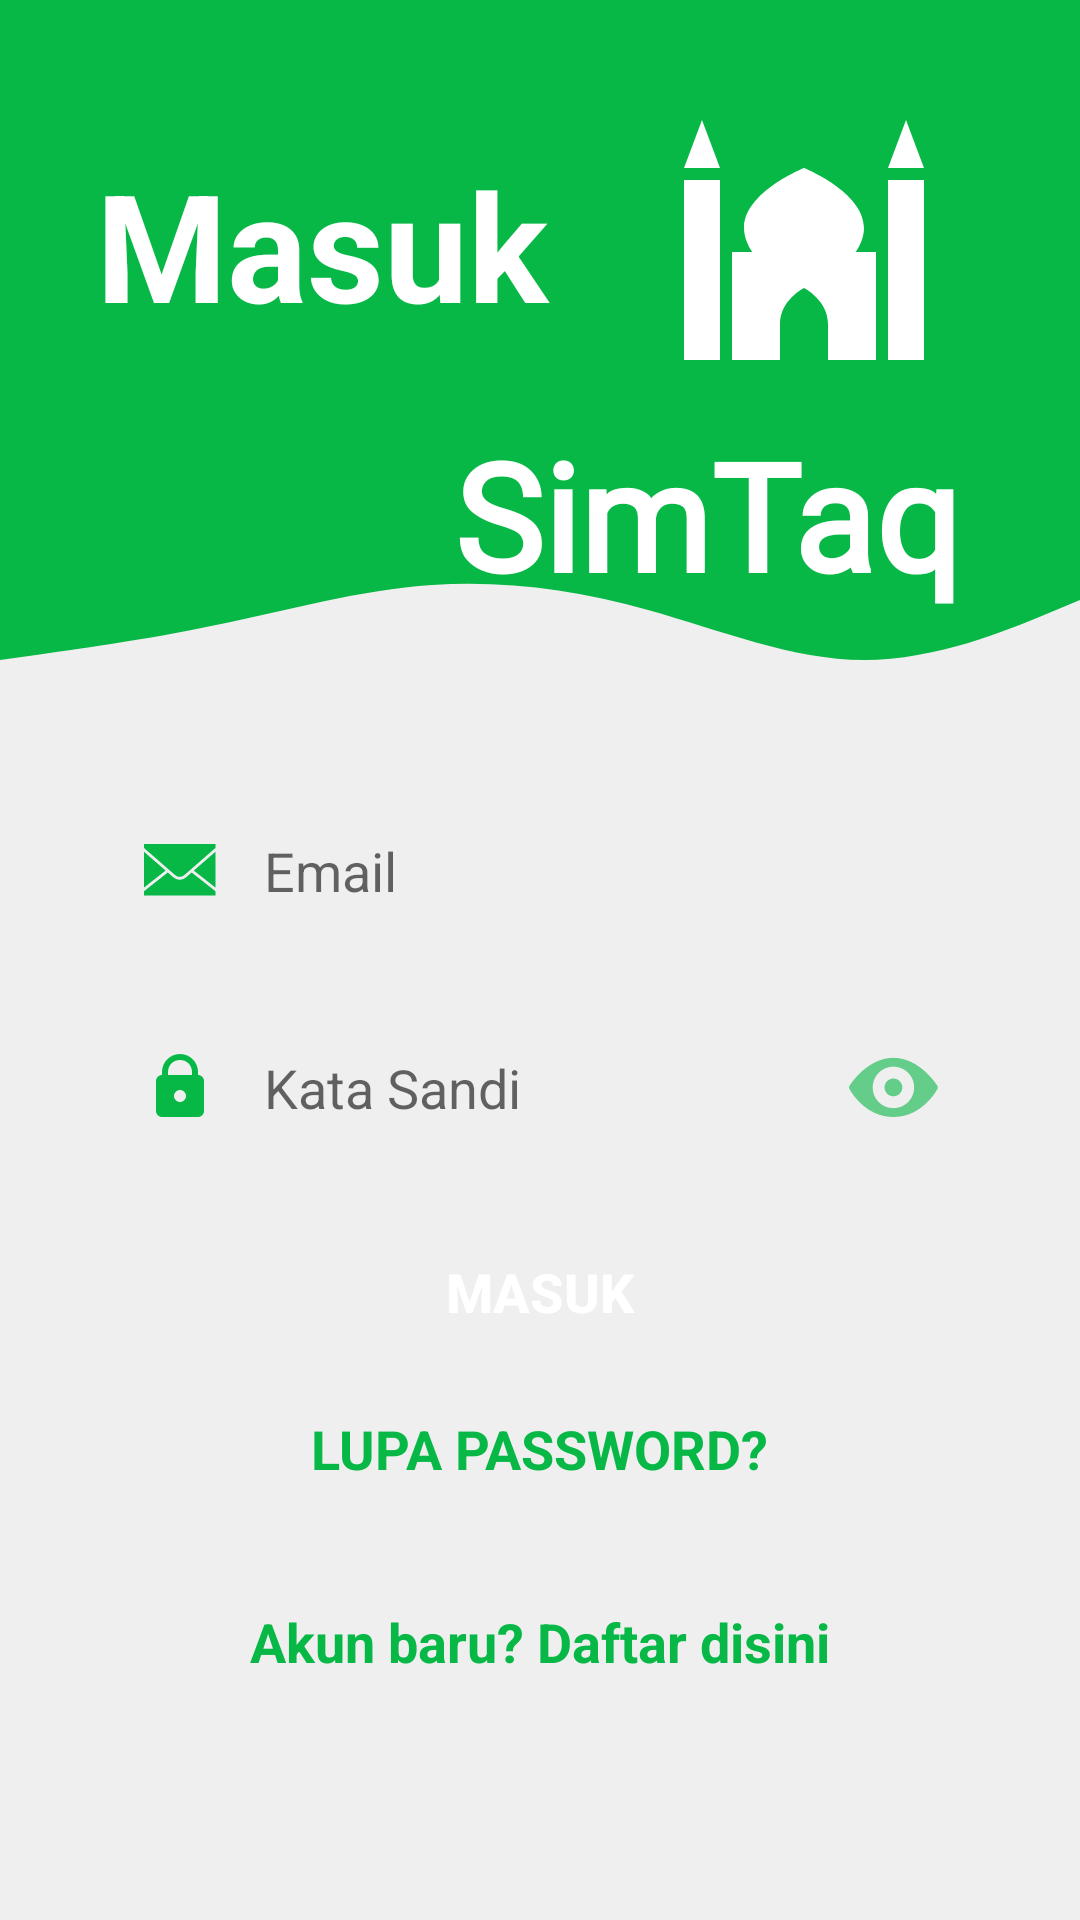

Screen size 1080 × 1920. Icon name, then its center in pixels as (x,y):
mosque: (804,240)
visible: (893,1087)
